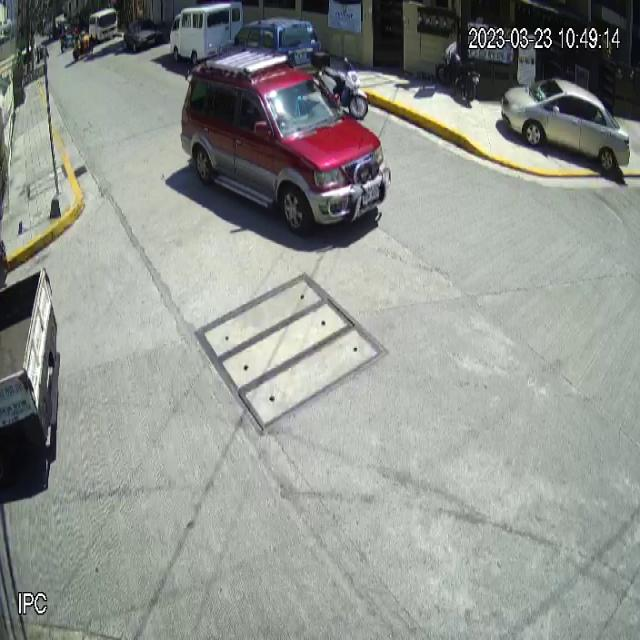Car: (180, 46, 391, 237), (501, 76, 631, 171)
Motorcycle: (312, 48, 369, 120)
Van: (170, 1, 245, 67)
